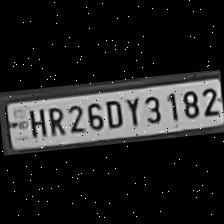1: (160, 88, 180, 122)
2: (198, 82, 222, 116), (64, 100, 86, 134)
3: (140, 91, 164, 125)
6: (84, 98, 104, 132)
8: (178, 86, 201, 119)
D: (102, 95, 124, 129)
H: (24, 104, 46, 138)
R: (44, 102, 65, 136)
Y: (122, 93, 142, 127)
